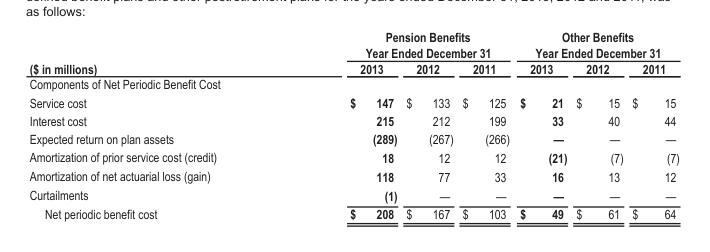table: (28, 28, 678, 221)
table column: (28, 28, 282, 221), (282, 28, 401, 221), (457, 28, 514, 221), (570, 28, 627, 221), (401, 28, 457, 221), (514, 28, 570, 221), (627, 28, 678, 221)
table column header: (28, 28, 678, 75)
table projected row header: (28, 75, 678, 93)
table row: (28, 28, 678, 60), (28, 147, 678, 166), (28, 166, 678, 185), (28, 185, 678, 204), (28, 75, 678, 93), (28, 93, 678, 111), (28, 111, 678, 129), (28, 129, 678, 147), (28, 204, 678, 221), (28, 60, 678, 75)
table spanning cell: (28, 28, 282, 75), (282, 28, 514, 60), (514, 28, 678, 60)
